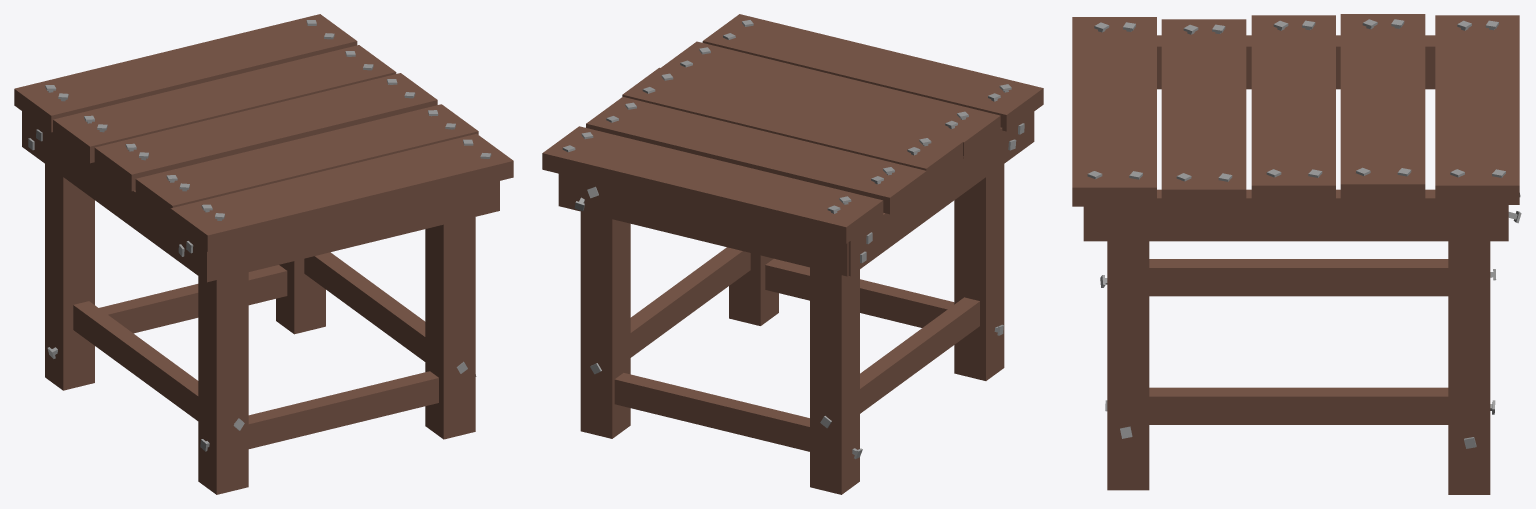
The model's file is scene_yGuTBPojdF.glb.
3 renders of one model, left to right at view 1: azimuth 30°, elevation 25°; view 2: azimuth 150°, elevation 25°; view 3: azimuth 270°, elevation 25°, orthographic. The views are drawn at different scales.
Visible parts, largest first — view 1: Node; view 2: Node; view 3: Node.
Part boxes in pixels (bbox=[...]): Node: bbox=[14, 14, 513, 494]; Node: bbox=[542, 14, 1043, 494]; Node: bbox=[1072, 14, 1521, 494].
Bounding box in the file's own units: 0.7786 × 0.692 × 0.8559.
